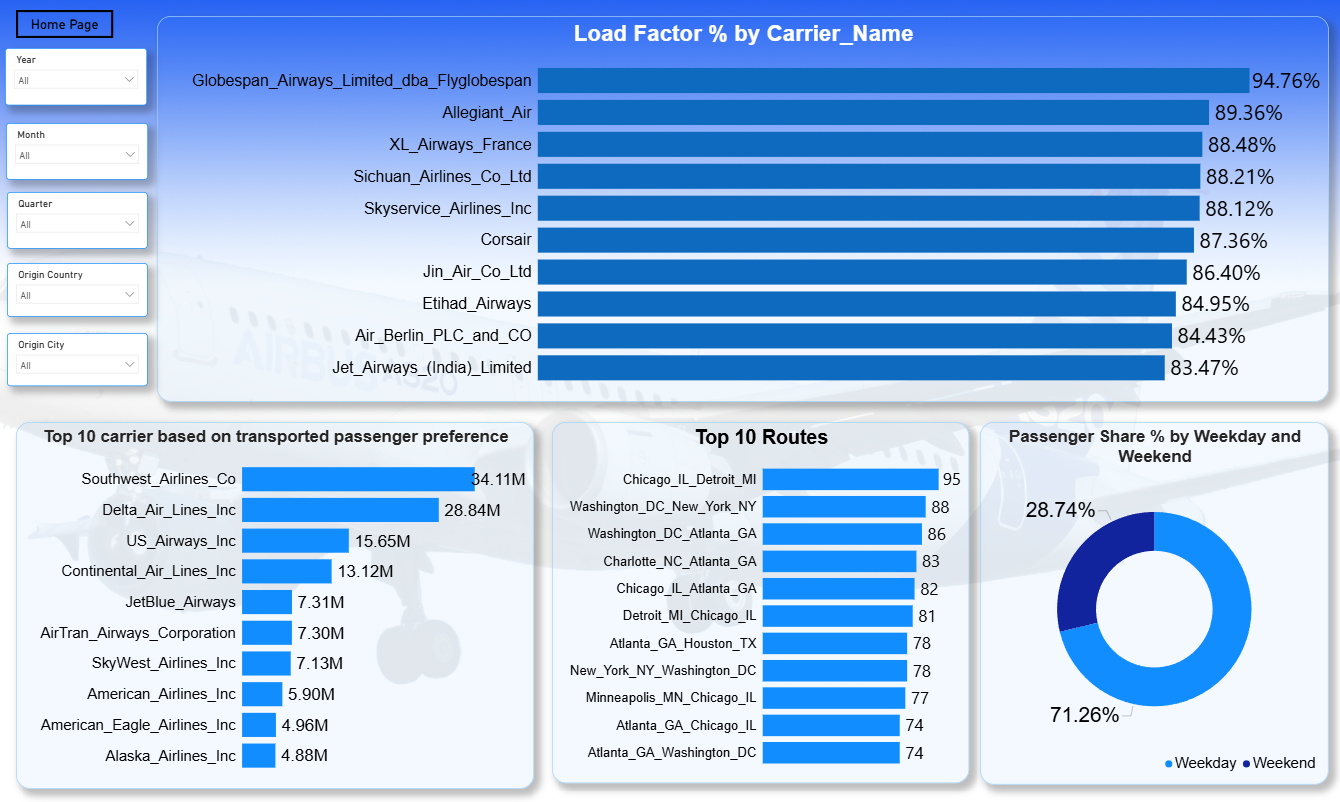

This screenshot's page, from the dashboard's own definition file:
{"tool":"powerbi","page":{"name":"Page 2","canvas":[1920,1150],"ordinal":1},"visuals":[{"type":"clusteredBarChart","fields":{"Category":["airline_db fact_table.Carrier_Name"],"Y":["airline_db fact_table.Load Factor %"]},"box":[225.7,24.3,1674.3,551.4],"z":0},{"type":"clusteredBarChart","title":"Top 10 Routes","fields":{"Category":["airline_db fact_table.From_To_City"],"Y":["airline_db fact_table.Count of carrier name"]},"box":[790,604,596,516],"z":1000},{"type":"donutChart","fields":{"Category":["airline_db fact_table.weekday_or_weekend"],"Y":["airline_db fact_table.Passenger Share %"]},"box":[1402,604,498,518],"z":2000},{"type":"clusteredBarChart","title":"Top 10 carrier based on transported passenger preference","fields":{"Category":["airline_db fact_table.Carrier_Name"],"Y":["airline_db fact_table.Total Passengers"]},"box":[24,604,740,524],"z":3000},{"type":"slicer","fields":{"Values":["airline_db fact_table.Year"]},"box":[8.9,69.4,203.3,82.2],"z":4000},{"type":"slicer","fields":{"Values":["airline_db fact_table.Month_Full_Name"]},"box":[10,177.2,203.3,81.1],"z":5000},{"type":"slicer","fields":{"Values":["airline_db fact_table.Origin_Country"]},"box":[11.1,377.2,201.1,76.7],"z":6000},{"type":"slicer","fields":{"Values":["airline_db fact_table.Origin_City"]},"box":[11,477.6,201.4,75.7],"z":7000},{"type":"slicer","fields":{"Values":["airline_db fact_table.Quarter"]},"box":[11.1,276.1,201.1,81.1],"z":8000},{"type":"actionButton","box":[24.4,15.6,138.9,40],"z":8001}]}

Visuals, with their boxes in screenshot pixels (x1, y1, x2, y2), scaled from the page's 1920x1150 canvas onto the 1340x802 screenshot:
clusteredBarChart - airline_db fact_table.Carrier_Name x airline_db fact_table.Load Factor %: detection(158, 17, 1326, 401)
"Top 10 Routes" clusteredBarChart: detection(551, 421, 967, 781)
donutChart - airline_db fact_table.weekday_or_weekend x airline_db fact_table.Passenger Share %: detection(978, 421, 1326, 782)
"Top 10 carrier based on transported passenger preference" clusteredBarChart: detection(17, 421, 533, 787)
slicer - airline_db fact_table.Year: detection(6, 48, 148, 106)
slicer - airline_db fact_table.Month_Full_Name: detection(7, 124, 149, 180)
slicer - airline_db fact_table.Origin_Country: detection(8, 263, 148, 317)
slicer - airline_db fact_table.Origin_City: detection(8, 333, 148, 386)
slicer - airline_db fact_table.Quarter: detection(8, 193, 148, 249)
actionButton: detection(17, 11, 114, 39)
